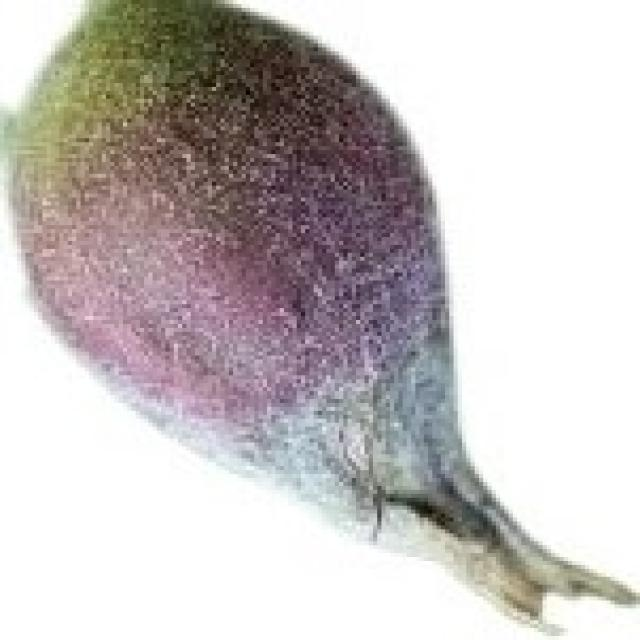20-_ripeness: (8, 1, 636, 640)
